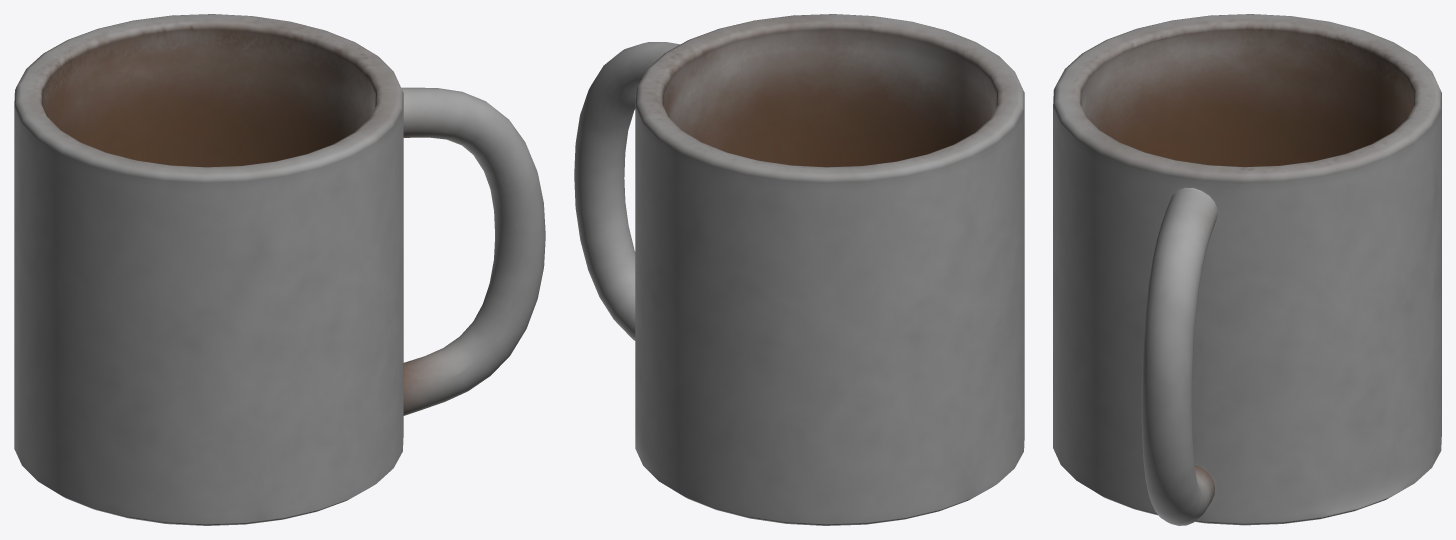
3 renders of one model, left to right at view 1: azimuth 30°, elevation 25°; view 2: azimuth 150°, elevation 25°; view 3: azimuth 270°, elevation 25°, orthographic.
Parts seen in each view (by area): view 1: SM_Coffee_Mug; view 2: SM_Coffee_Mug; view 3: SM_Coffee_Mug.
Boxes of the visible parts, left/top/right/bottom form: SM_Coffee_Mug: left=14, top=14, right=545, bottom=525; SM_Coffee_Mug: left=574, top=14, right=1024, bottom=525; SM_Coffee_Mug: left=1053, top=14, right=1441, bottom=525.
Size of the model in its own units: 8.63 by 6.32 by 6.3.
Materials: 1 (1 with a texture image).
